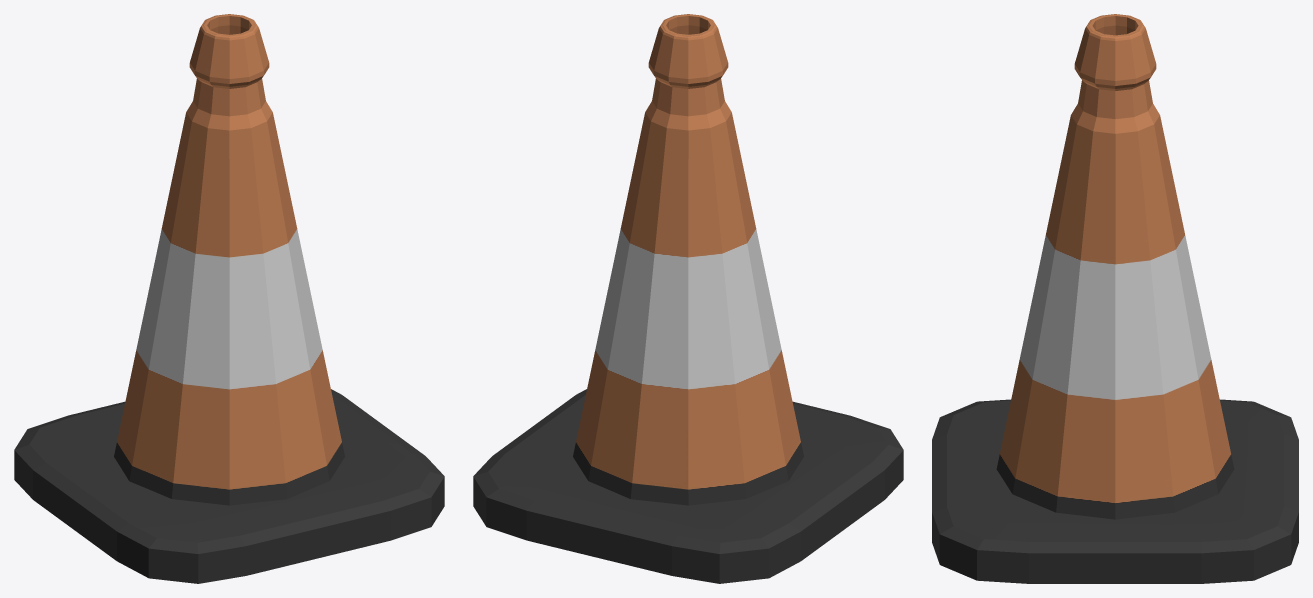
File: conecprsd.glb
3 renders of one model, left to right at view 1: azimuth 30°, elevation 25°; view 2: azimuth 150°, elevation 25°; view 3: azimuth 270°, elevation 25°, orthographic. The views are drawn at different scales.
Visible parts, largest first — view 1: Traffic Cone; view 2: Traffic Cone; view 3: Traffic Cone.
Boxes of the visible parts, bbox=[...] form: Traffic Cone: bbox=[14, 14, 444, 583]; Traffic Cone: bbox=[473, 14, 903, 583]; Traffic Cone: bbox=[932, 14, 1298, 583].
Size of the model in its own units: 3.04 by 4.4 by 3.04.
Materials: 1 (1 with a texture image).
